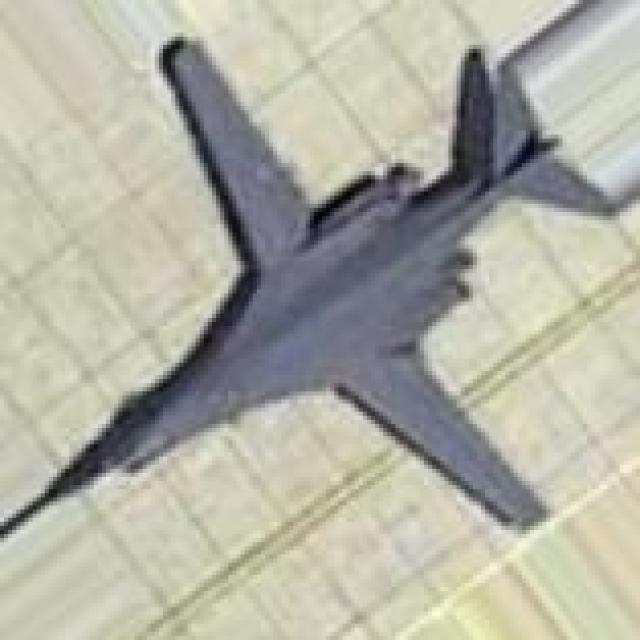B-1_TopDown: (0, 0, 636, 575)
